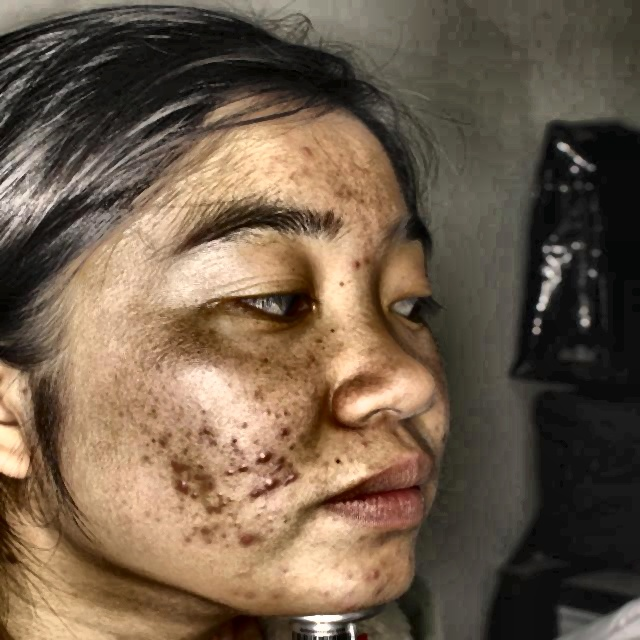pustule: (193, 519, 221, 546), (232, 584, 260, 608), (226, 456, 252, 481), (165, 454, 192, 476), (169, 476, 197, 494), (206, 499, 236, 515), (345, 254, 371, 272), (363, 562, 386, 582), (251, 441, 271, 463), (257, 475, 283, 491), (371, 584, 394, 600), (301, 140, 314, 168), (235, 526, 253, 546), (273, 461, 298, 472)
